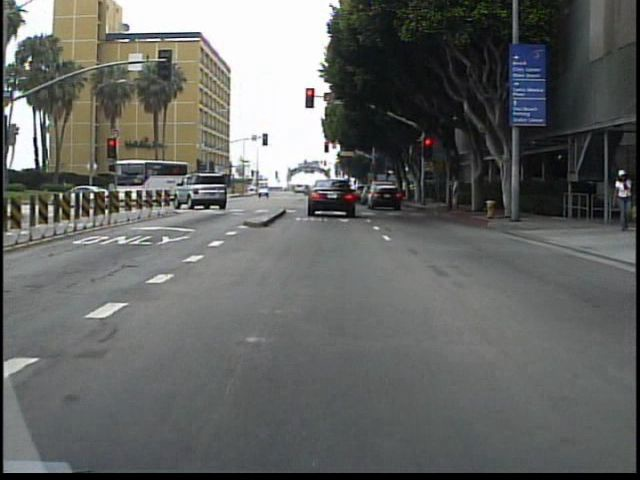person: (447, 168, 464, 213)
